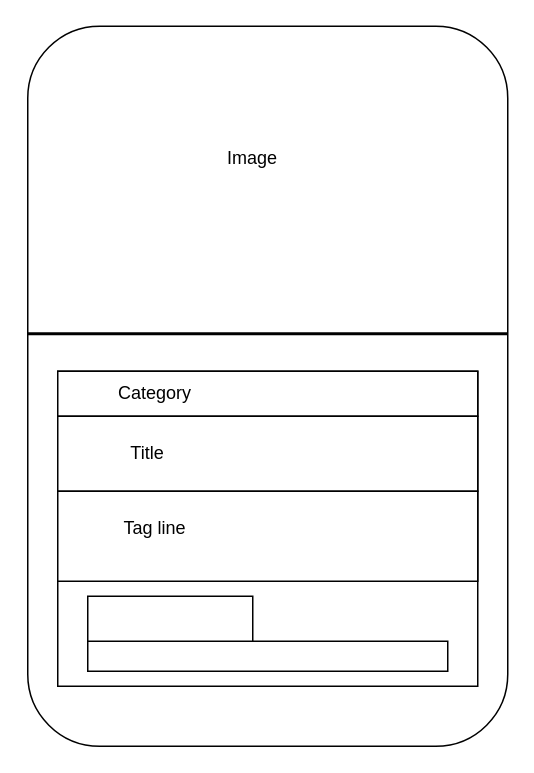
The diagram is 534 pixels wide and 773 high, and some of its shapes have lost their labels. The box of each missing label's shape, as (x1, y1, x2, y2) in pixels:
Amount Raised: (86, 595, 253, 641)
Progress Bar(% contributions/target: (86, 640, 448, 671)
